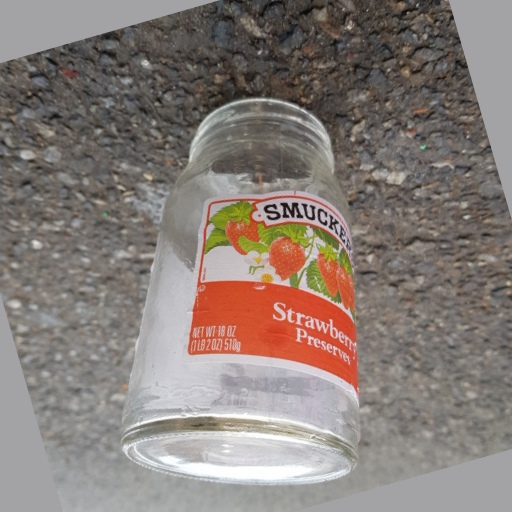Glass_5: (114, 98, 367, 489)
